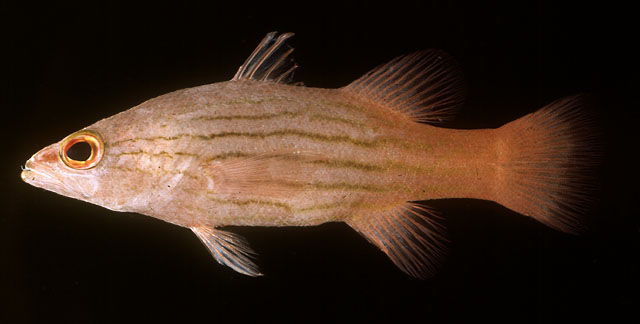fish: (20, 29, 586, 277)
